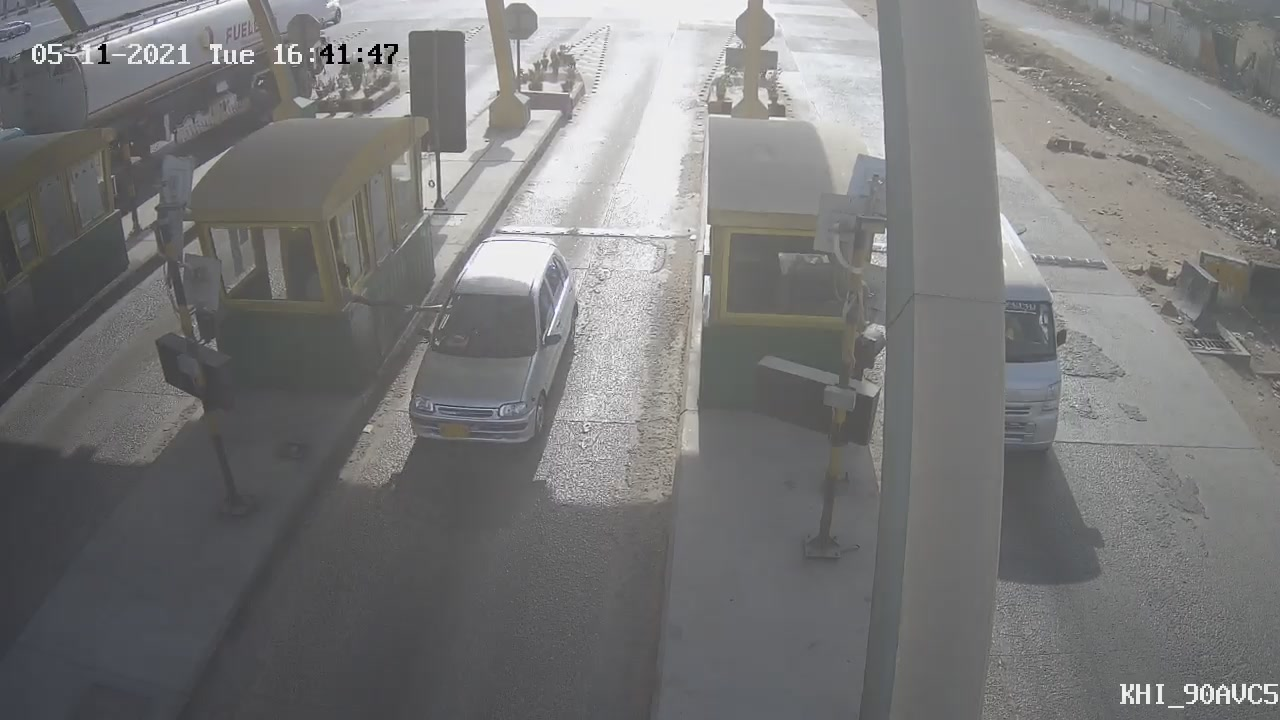F1: (395, 222, 587, 475)
